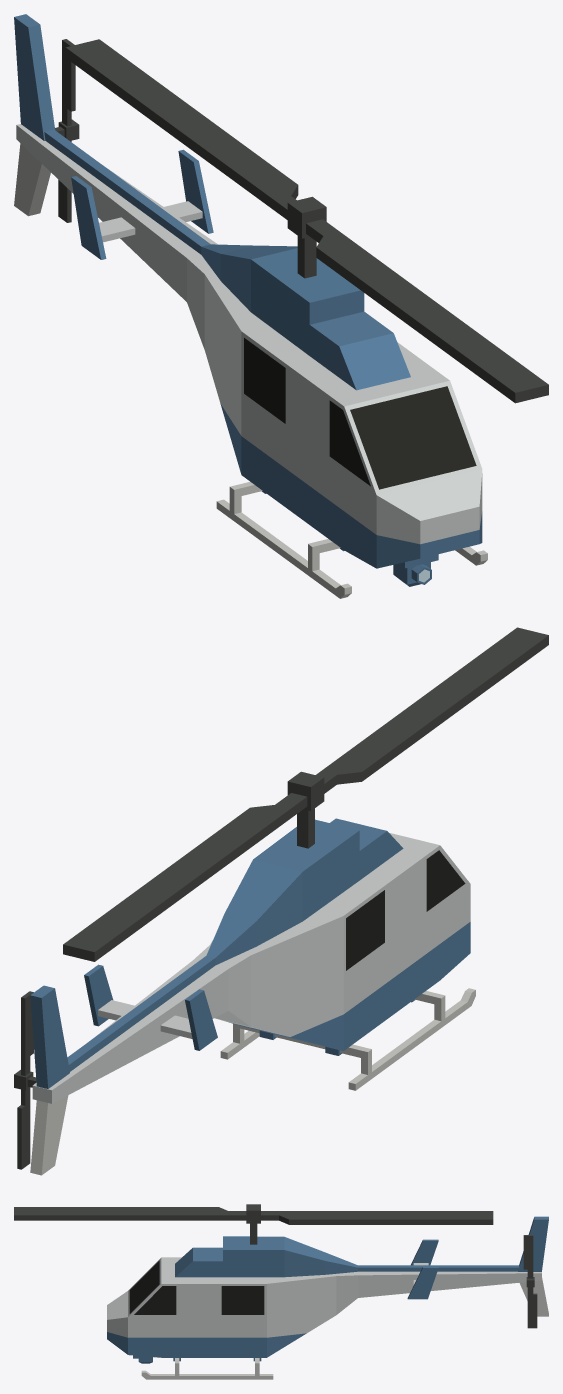
The model's file is Veh_News_Helicopter.glb.
3 views of the same model, one above another, from view 1: azimuth 30°, elevation 25°; view 2: azimuth 150°, elevation 25°; view 3: azimuth 270°, elevation 25° (orthographic). The views are drawn at different scales.
Parts seen in each view (by area): view 1: News_Helicopter, Rotor_Main, Rotor_Tail; view 2: News_Helicopter, Rotor_Main, Rotor_Tail; view 3: News_Helicopter, Rotor_Main, Rotor_Tail.
Boxes of the visible parts, x1,y1,x2,y2 form: News_Helicopter: [14, 14, 487, 598]; Rotor_Main: [65, 39, 548, 403]; Rotor_Tail: [55, 39, 79, 222]; News_Helicopter: [30, 818, 475, 1175]; Rotor_Main: [63, 627, 548, 961]; Rotor_Tail: [14, 991, 36, 1169]; News_Helicopter: [107, 1216, 548, 1379]; Rotor_Main: [14, 1204, 493, 1244]; Rotor_Tail: [523, 1235, 537, 1328].
Bounding box in the file's own units: 1.02 × 2.05 × 6.44.
Materials: 1 (1 with a texture image).
